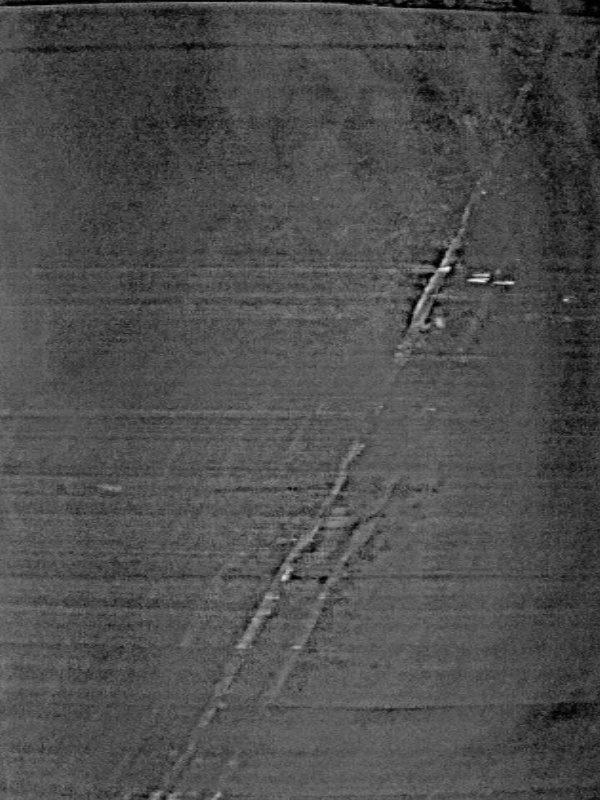splice_vulcanized: (88, 19, 580, 800)
